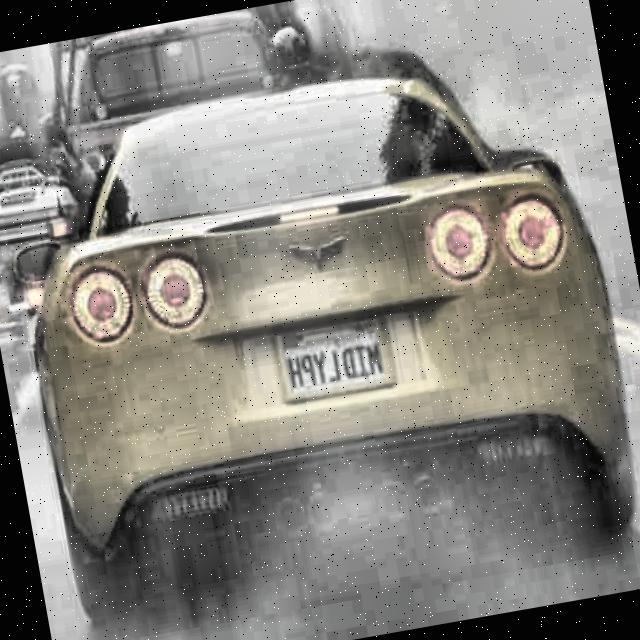license_plate: (276, 329, 392, 404)
